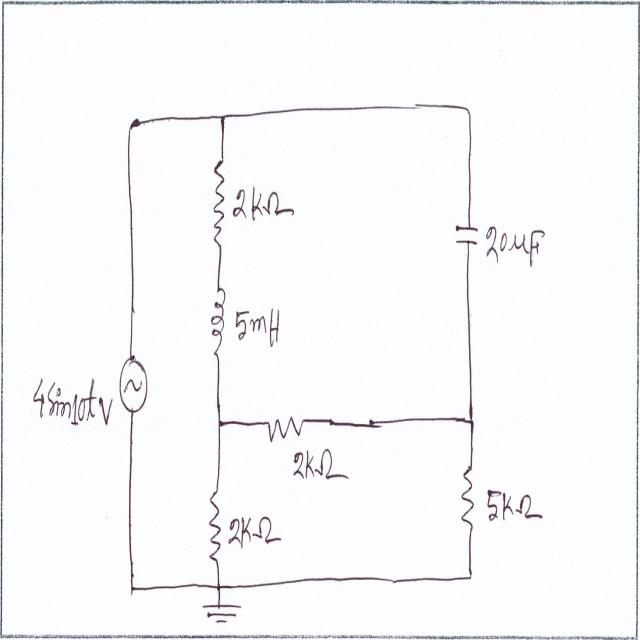ac_current: (119, 353, 149, 415)
capacitor: (454, 216, 480, 253)
ground: (201, 596, 244, 629)
inductor: (210, 286, 226, 364)
resistor: (265, 410, 309, 448), (211, 157, 228, 251), (207, 487, 225, 565), (460, 461, 477, 533)
